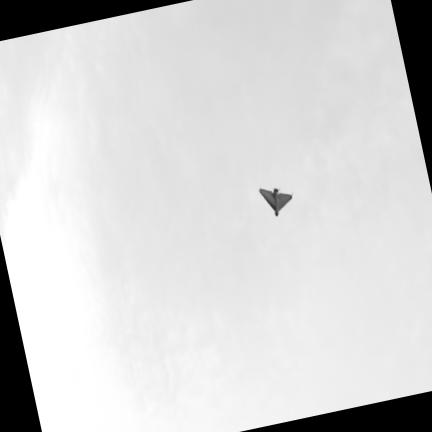Shahed: (258, 188, 292, 216)
